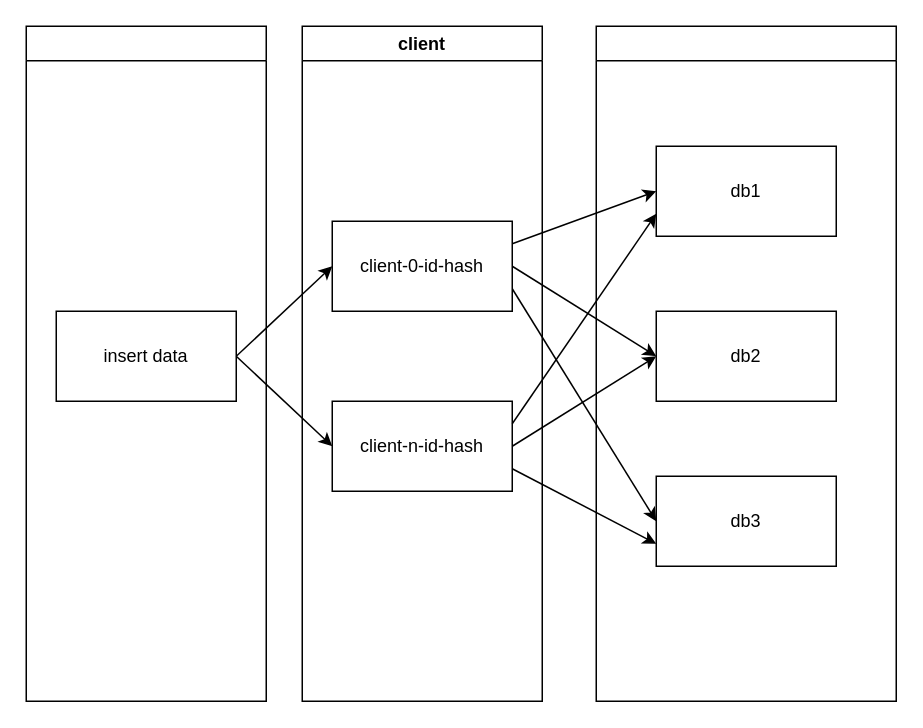
Image size: 923x728. Some labels were removed from this diagram. Each missing label, with the box of its shape:
db-cluster: (595, 25, 896, 701)
user: (25, 25, 266, 701)
